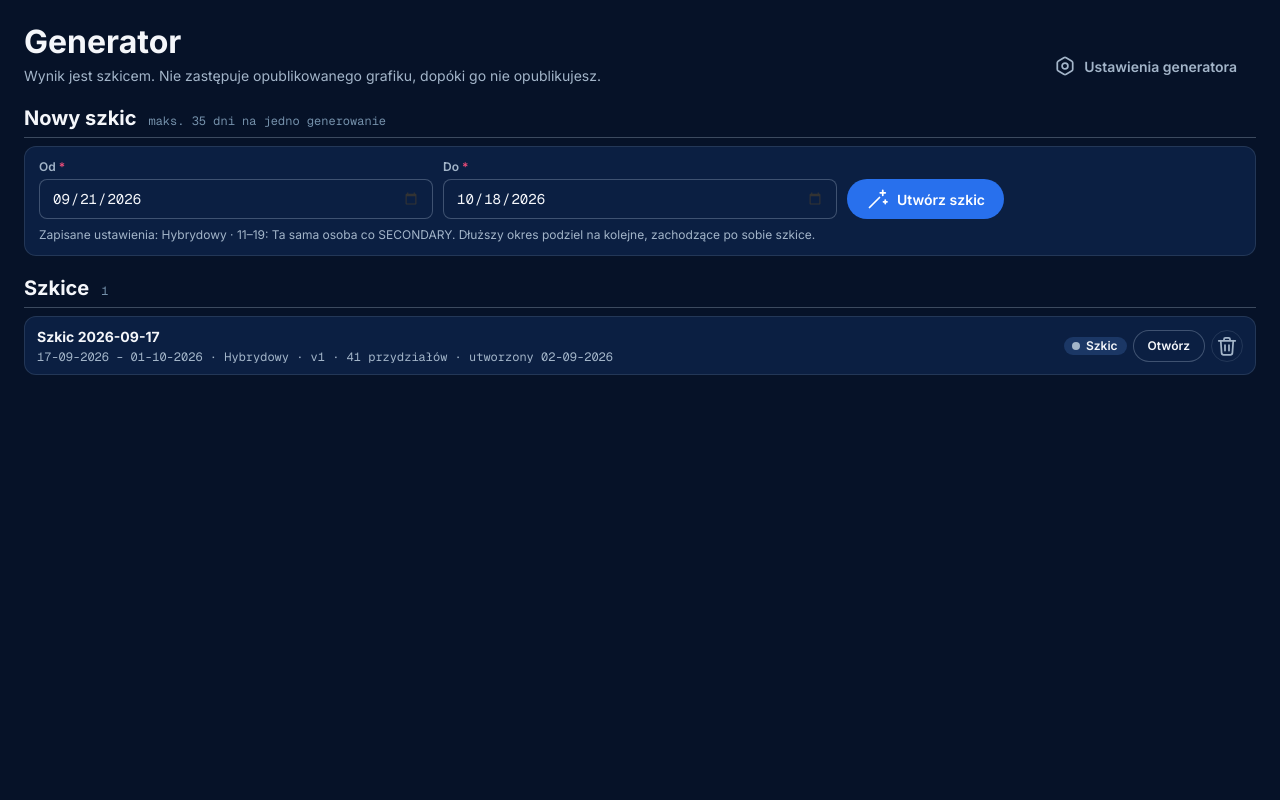
Test: GeneratorPanel draft persistence › reopens a draft by id, which is what survives a page reload
Click the button "Otwórz" at (1169, 346), box x1=1133 y1=330 x2=1205 y2=362
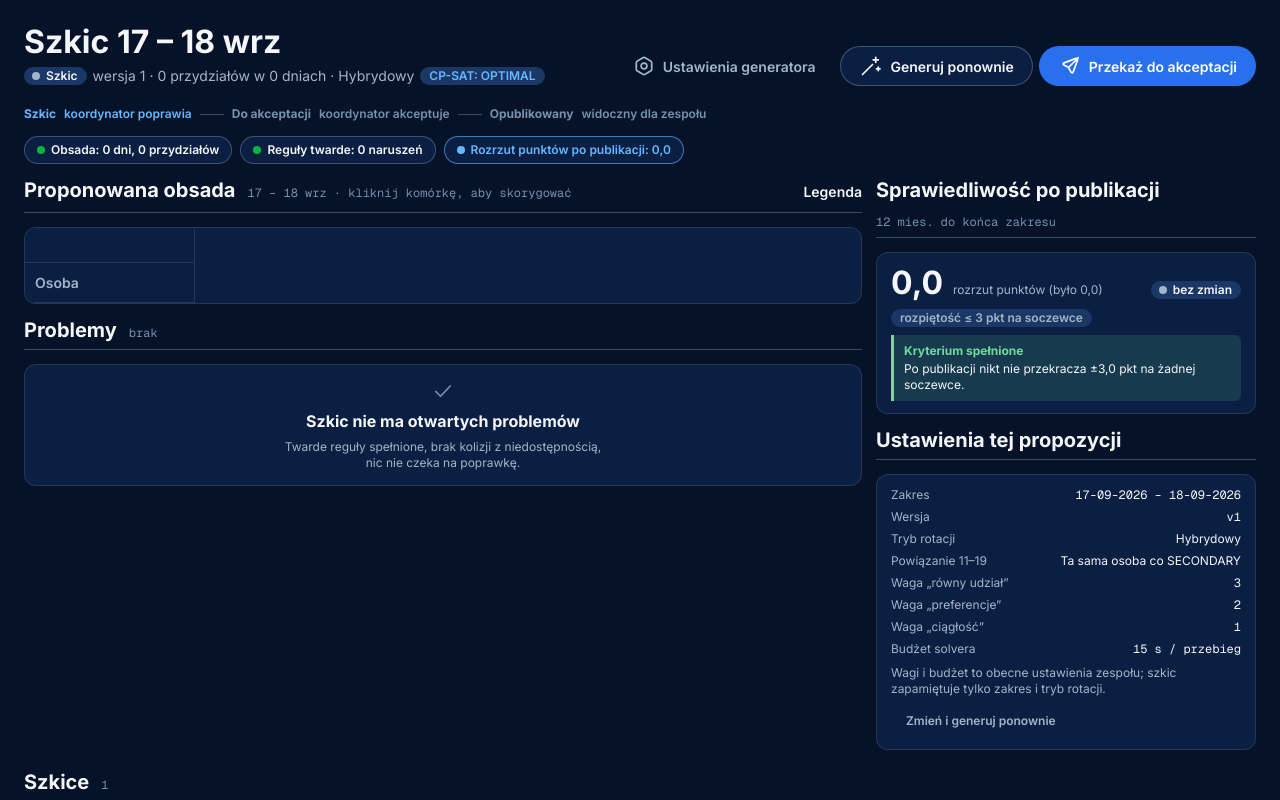
Check: the text "CP-SAT: OPTIMAL" is shown, box x1=420 y1=66 x2=545 y2=84
